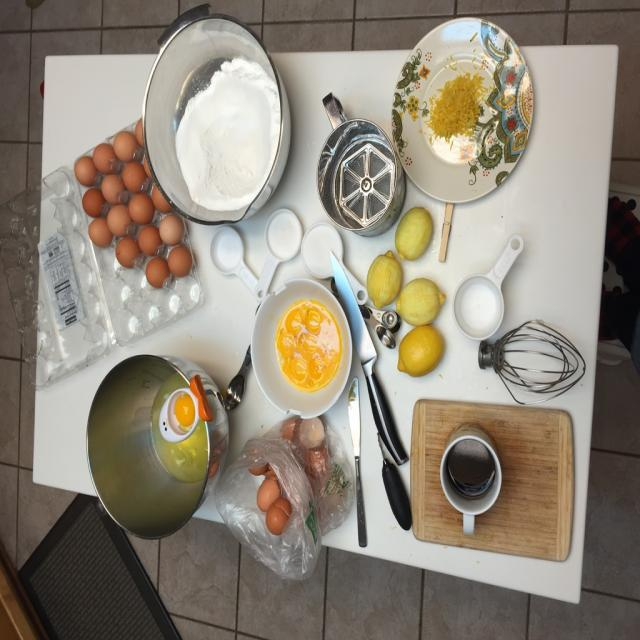non-organic waste: (382, 20, 539, 212)
